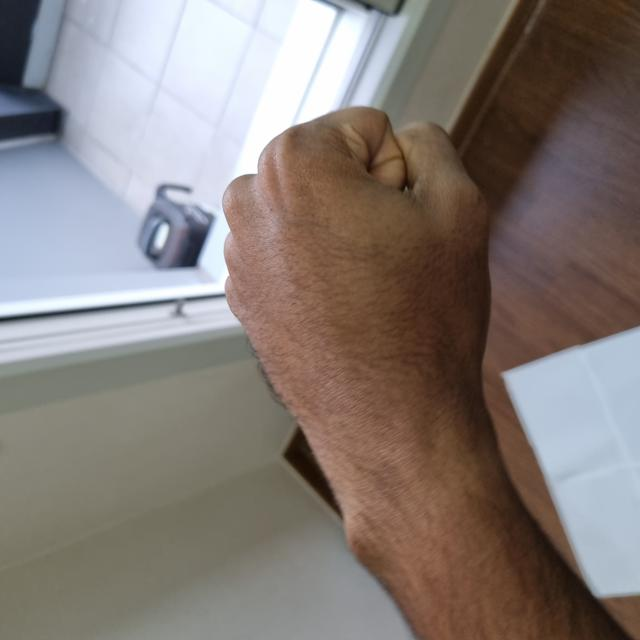Rock: (110, 225, 531, 495)
